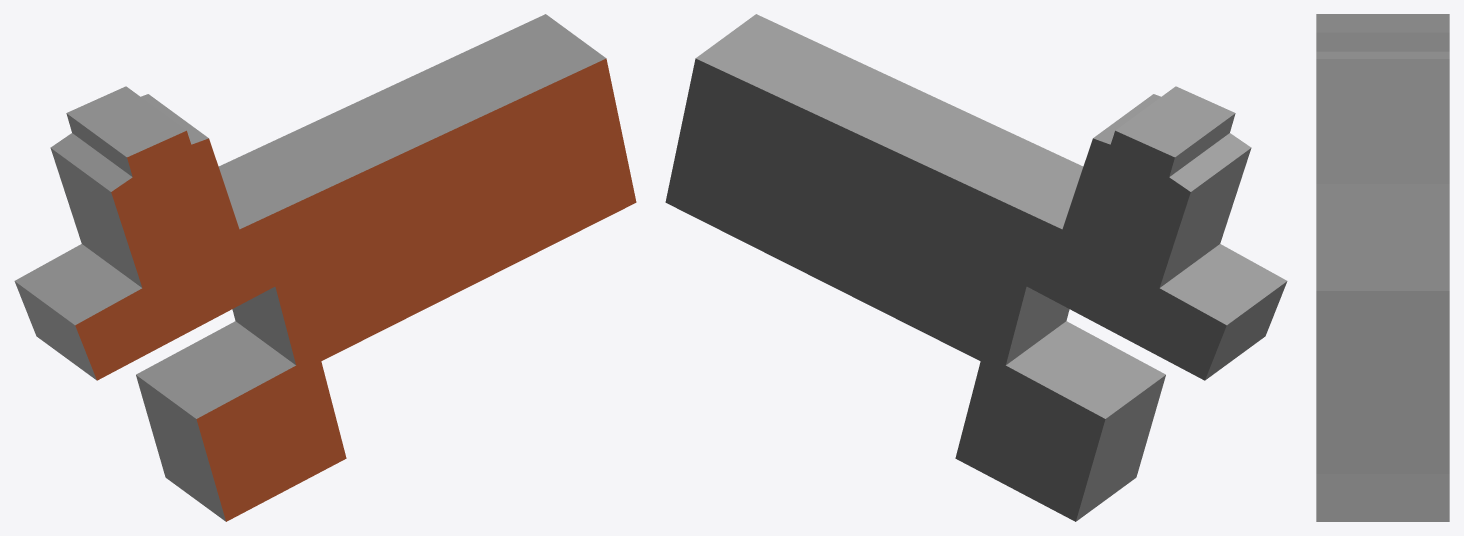
The model's file is construction_4342_assumed_A_Casa_h6m.obj.
The picture shows the model from 3 angles, left to right: view 1: azimuth 30°, elevation 25°; view 2: azimuth 150°, elevation 25°; view 3: azimuth 270°, elevation 25°; orthographic projection. The views are drawn at different scales.
Parts seen in each view (by area): view 1: construction_4342_assumed_A_Casa; view 2: construction_4342_assumed_A_Casa; view 3: construction_4342_assumed_A_Casa.
Boxes of the visible parts, left/top/right/bottom form: construction_4342_assumed_A_Casa: left=14, top=14, right=636, bottom=521; construction_4342_assumed_A_Casa: left=665, top=14, right=1287, bottom=521; construction_4342_assumed_A_Casa: left=1316, top=14, right=1449, bottom=521.
Bounding box in the file's own units: 32.05 × 21.88 × 6.
